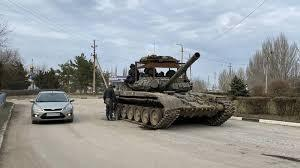car: (32, 88, 72, 126)
tank: (113, 52, 234, 130)
